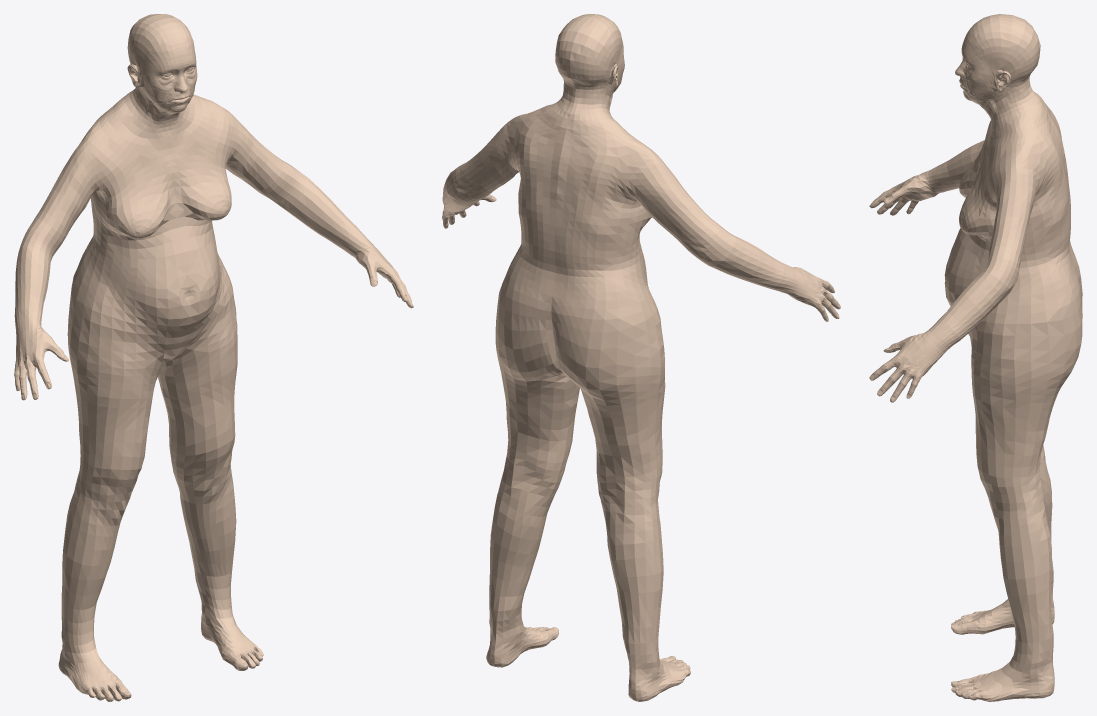
File: female-elder-max-low.glb
The picture shows the model from 3 angles, left to right: view 1: azimuth 30°, elevation 25°; view 2: azimuth 150°, elevation 25°; view 3: azimuth 270°, elevation 25°; orthographic projection.
Parts seen in each view (by area): view 1: world; view 2: world; view 3: world.
Part boxes in pixels (bbox=[...]): world: bbox=[14, 14, 413, 701]; world: bbox=[442, 14, 840, 701]; world: bbox=[869, 14, 1082, 701].
Bounding box in the file's own units: 1.13 × 1.8 × 0.5392.
